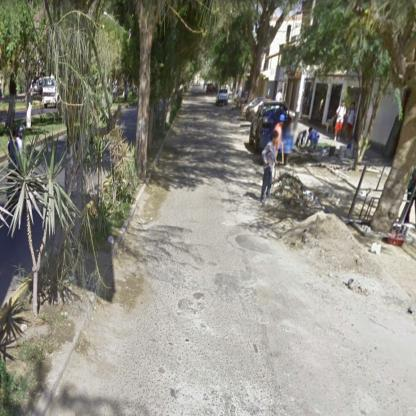Obstaculo: (276, 211, 379, 282)
Peaton: (260, 131, 279, 205), (335, 102, 348, 142)
Pista: (88, 82, 416, 314)
Vehiculo: (43, 76, 62, 109), (216, 90, 230, 106), (207, 85, 216, 93)
